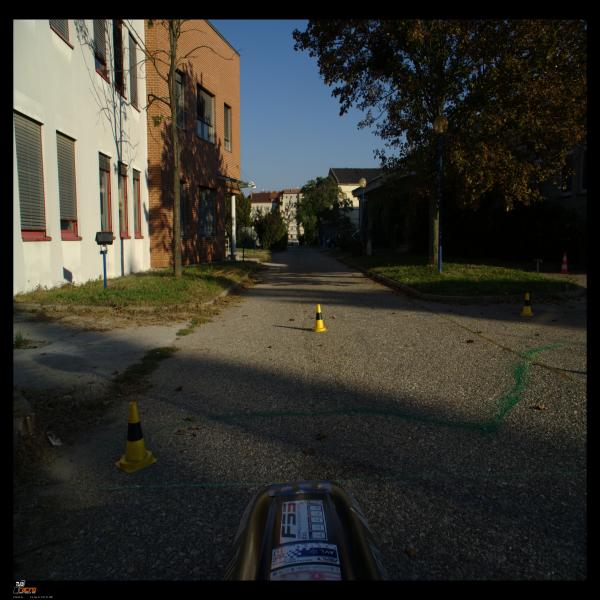large_orange_cone: (559, 252, 570, 274)
yellow_cone: (115, 402, 157, 473), (311, 304, 327, 332), (520, 293, 534, 316)
